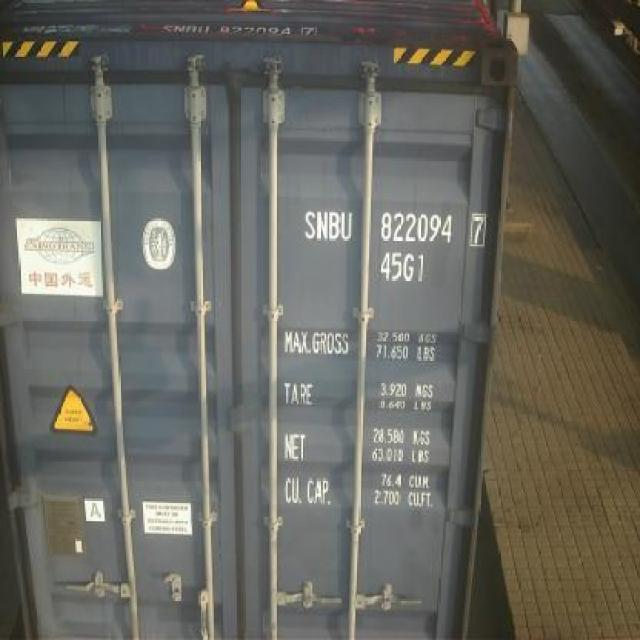ISO: (377, 250, 428, 282)
container_number: (308, 211, 486, 245)
